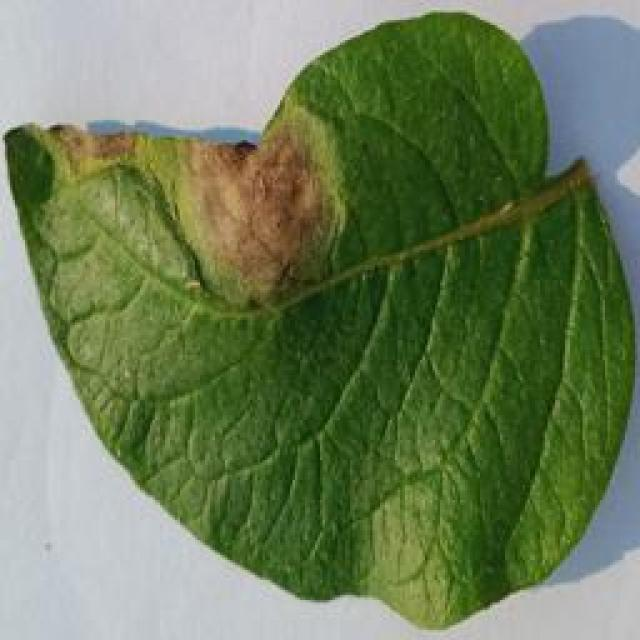Potato_Late_Blight: (4, 16, 619, 620)
